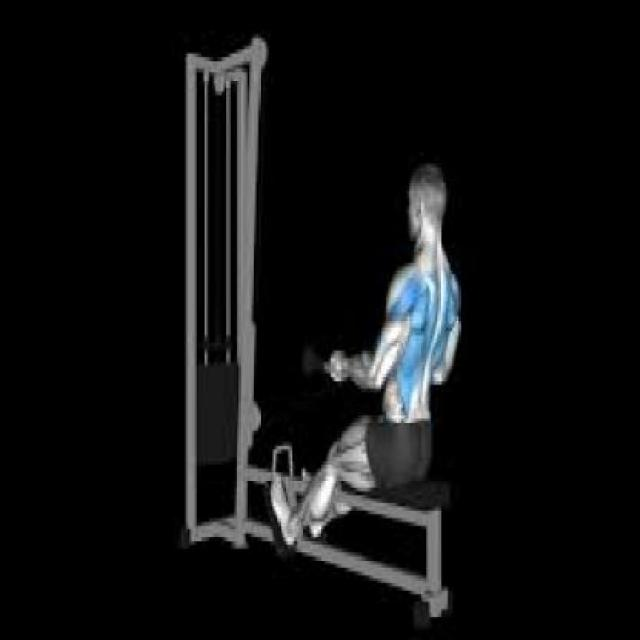Seated Cable Rows: (172, 24, 464, 640)
